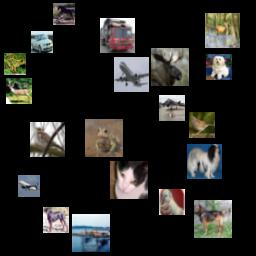airplane: (72, 214, 110, 252), (114, 57, 149, 92), (159, 95, 185, 121), (18, 175, 40, 197)
automobile: (31, 31, 53, 53)
bird: (30, 122, 65, 157), (189, 112, 215, 138)
cat: (110, 161, 148, 199)
deer: (151, 48, 189, 86), (205, 13, 240, 48), (6, 78, 32, 104)
dog: (194, 200, 232, 238), (187, 144, 222, 179), (159, 189, 185, 215), (206, 54, 232, 80), (43, 207, 69, 233)
frog: (85, 119, 123, 157), (4, 53, 26, 75)
truck: (100, 18, 135, 53)
